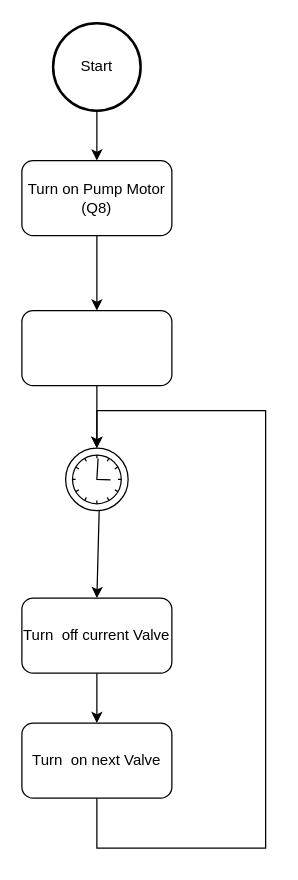
Some shapes in this 298 by 880 pixel diagram are drawn without their labels. Here are the shapes that lost their labels. From the top down, the centre of each, then its label:
At pixel 96 347: "Turn on first Valve (Q1)".
At pixel 96 479: "Wait x seconds".
